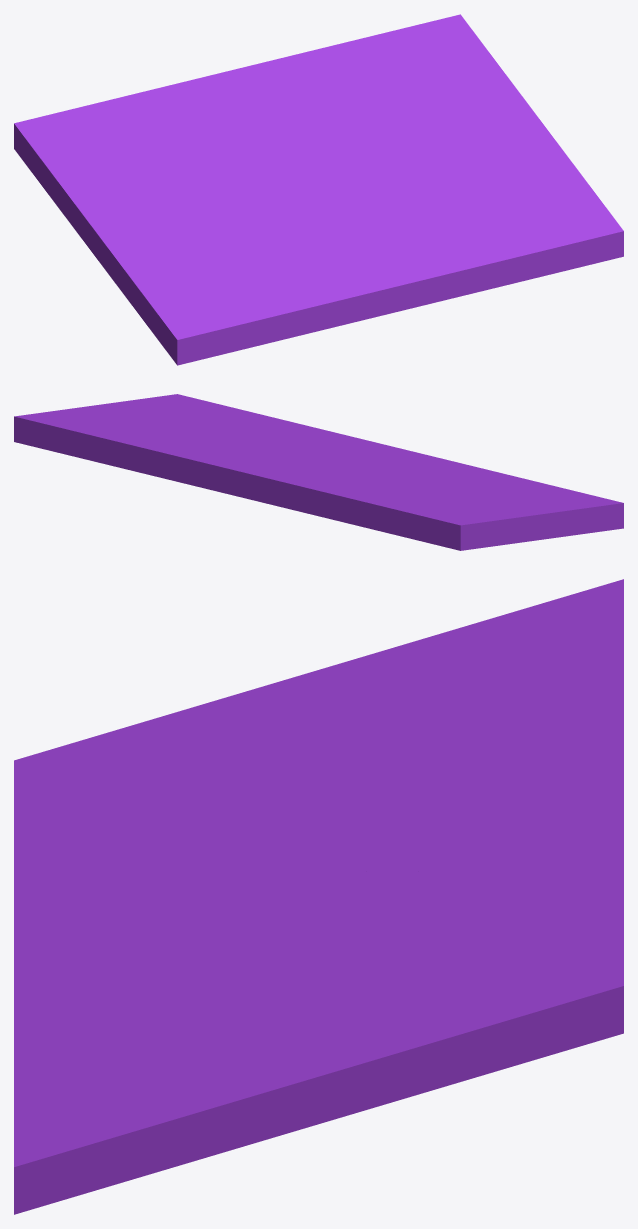
File: Window_137_chunks.fbx
The picture shows the model from 3 angles, top to bottom: view 1: azimuth 30°, elevation 25°; view 2: azimuth 150°, elevation 25°; view 3: azimuth 270°, elevation 25°; orthographic projection. The views are drawn at different scales.
Parts seen in each view (by area): view 1: Window_137_2, Window_137_0, Window_137_3, Window_137_1; view 2: Window_137_3, Window_137_2, Window_137_0, Window_137_1; view 3: Window_137_2, Window_137_3, Window_137_0, Window_137_1.
Boxes of the visible parts, x1,y1,x2,y2 form: Window_137_2: (316,14,623,285); Window_137_0: (100,184,502,365); Window_137_3: (14,48,326,262); Window_137_1: (322,20,435,108); Window_137_3: (152,450,552,550); Window_137_2: (14,394,329,460); Window_137_0: (320,429,623,538); Window_137_1: (14,419,225,481); Window_137_2: (14,871,623,1214); Window_137_3: (278,579,623,872); Window_137_0: (14,682,305,1036); Window_137_1: (435,860,623,1089).
Size of the model in its own units: 1838 by 482 by 1165.
